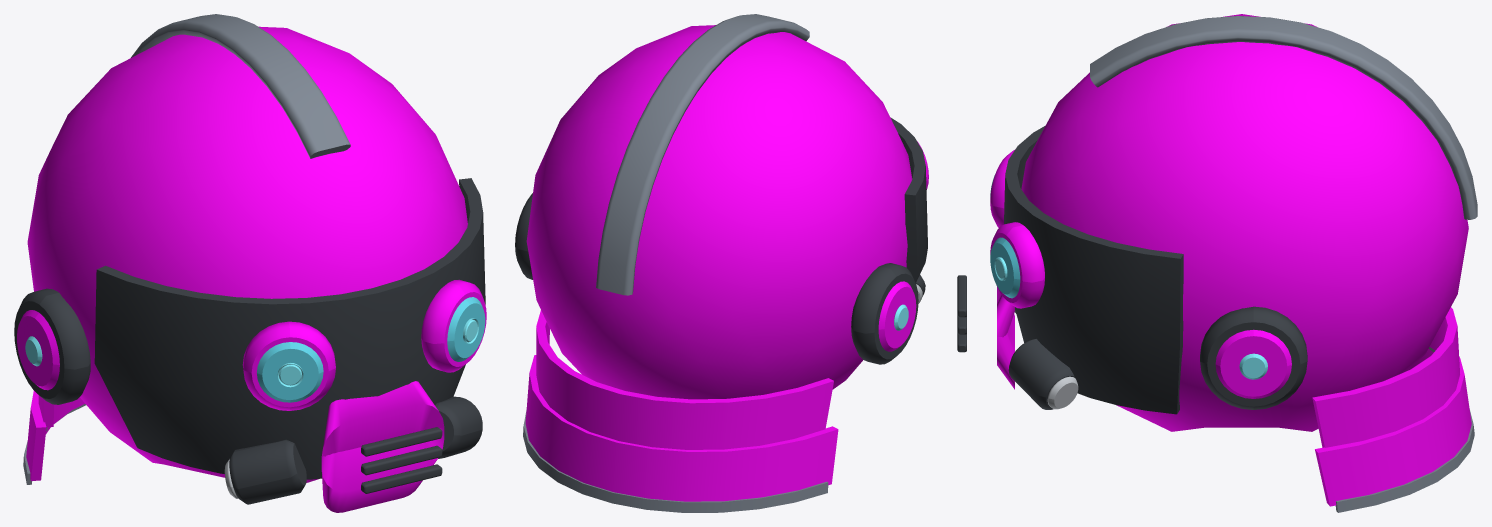
Rendered from porte_armure4_casque.glb.
The picture shows the model from 3 angles, left to right: view 1: azimuth 30°, elevation 25°; view 2: azimuth 150°, elevation 25°; view 3: azimuth 270°, elevation 25°; orthographic projection. The views are drawn at different scales.
Parts seen in each view (by area): view 1: tete__casque_teinte.010, tete__casque_teinte_sombre.010, tete__casque_acier_lisere.002, tete__casque_visiere.004, tete__casque_lueur.002; view 2: tete__casque_teinte.010, tete__casque_acier_lisere.002, tete__casque_teinte_sombre.010; view 3: tete__casque_teinte.010, tete__casque_teinte_sombre.010, tete__casque_acier_lisere.002, tete__casque_visiere.004, tete__casque_lueur.002, tete__casque_rivet.006.
Part boxes in pixels (x1,y1,x2,y2): tete__casque_teinte.010: (17, 26, 486, 512); tete__casque_teinte_sombre.010: (14, 178, 485, 504); tete__casque_acier_lisere.002: (23, 14, 350, 484); tete__casque_visiere.004: (257, 297, 485, 402); tete__casque_lueur.002: (25, 318, 478, 387); tete__casque_teinte.010: (525, 25, 928, 501); tete__casque_acier_lisere.002: (523, 14, 828, 512); tete__casque_teinte_sombre.010: (515, 117, 927, 364); tete__casque_teinte.010: (990, 14, 1471, 506); tete__casque_teinte_sombre.010: (957, 126, 1307, 414); tete__casque_acier_lisere.002: (1090, 16, 1477, 512); tete__casque_visiere.004: (990, 175, 1020, 298); tete__casque_lueur.002: (994, 257, 1267, 379); tete__casque_rivet.006: (1047, 376, 1078, 409).
Bounding box in the file's own units: 0.382 × 0.381 × 0.4352.
